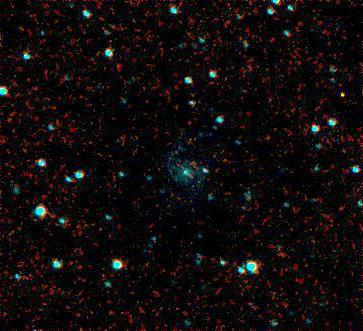star: (330, 78, 360, 108)
